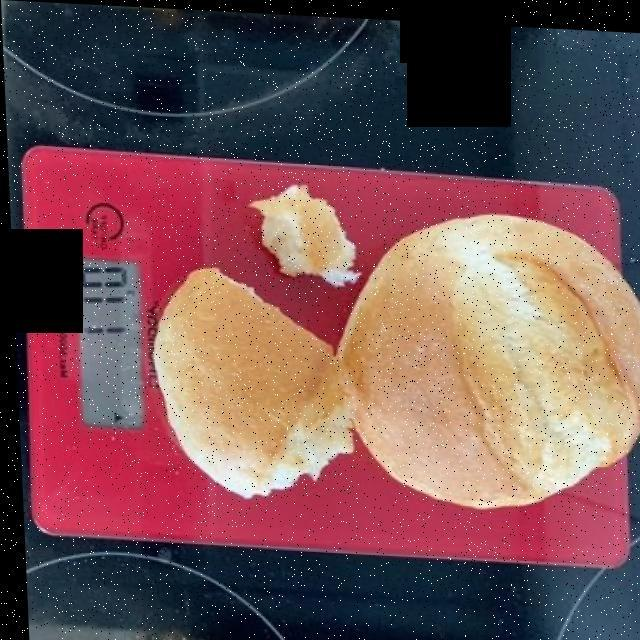bread: (147, 181, 640, 508)
